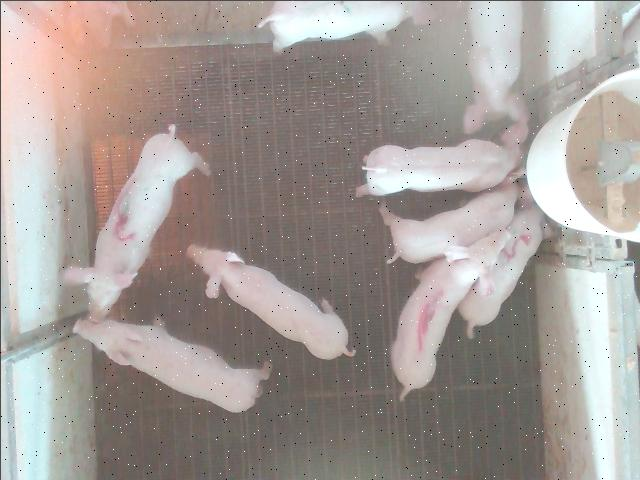pig-1: (390, 229, 509, 399)
pig-3: (61, 124, 209, 321)
pig-5: (458, 202, 542, 338)
